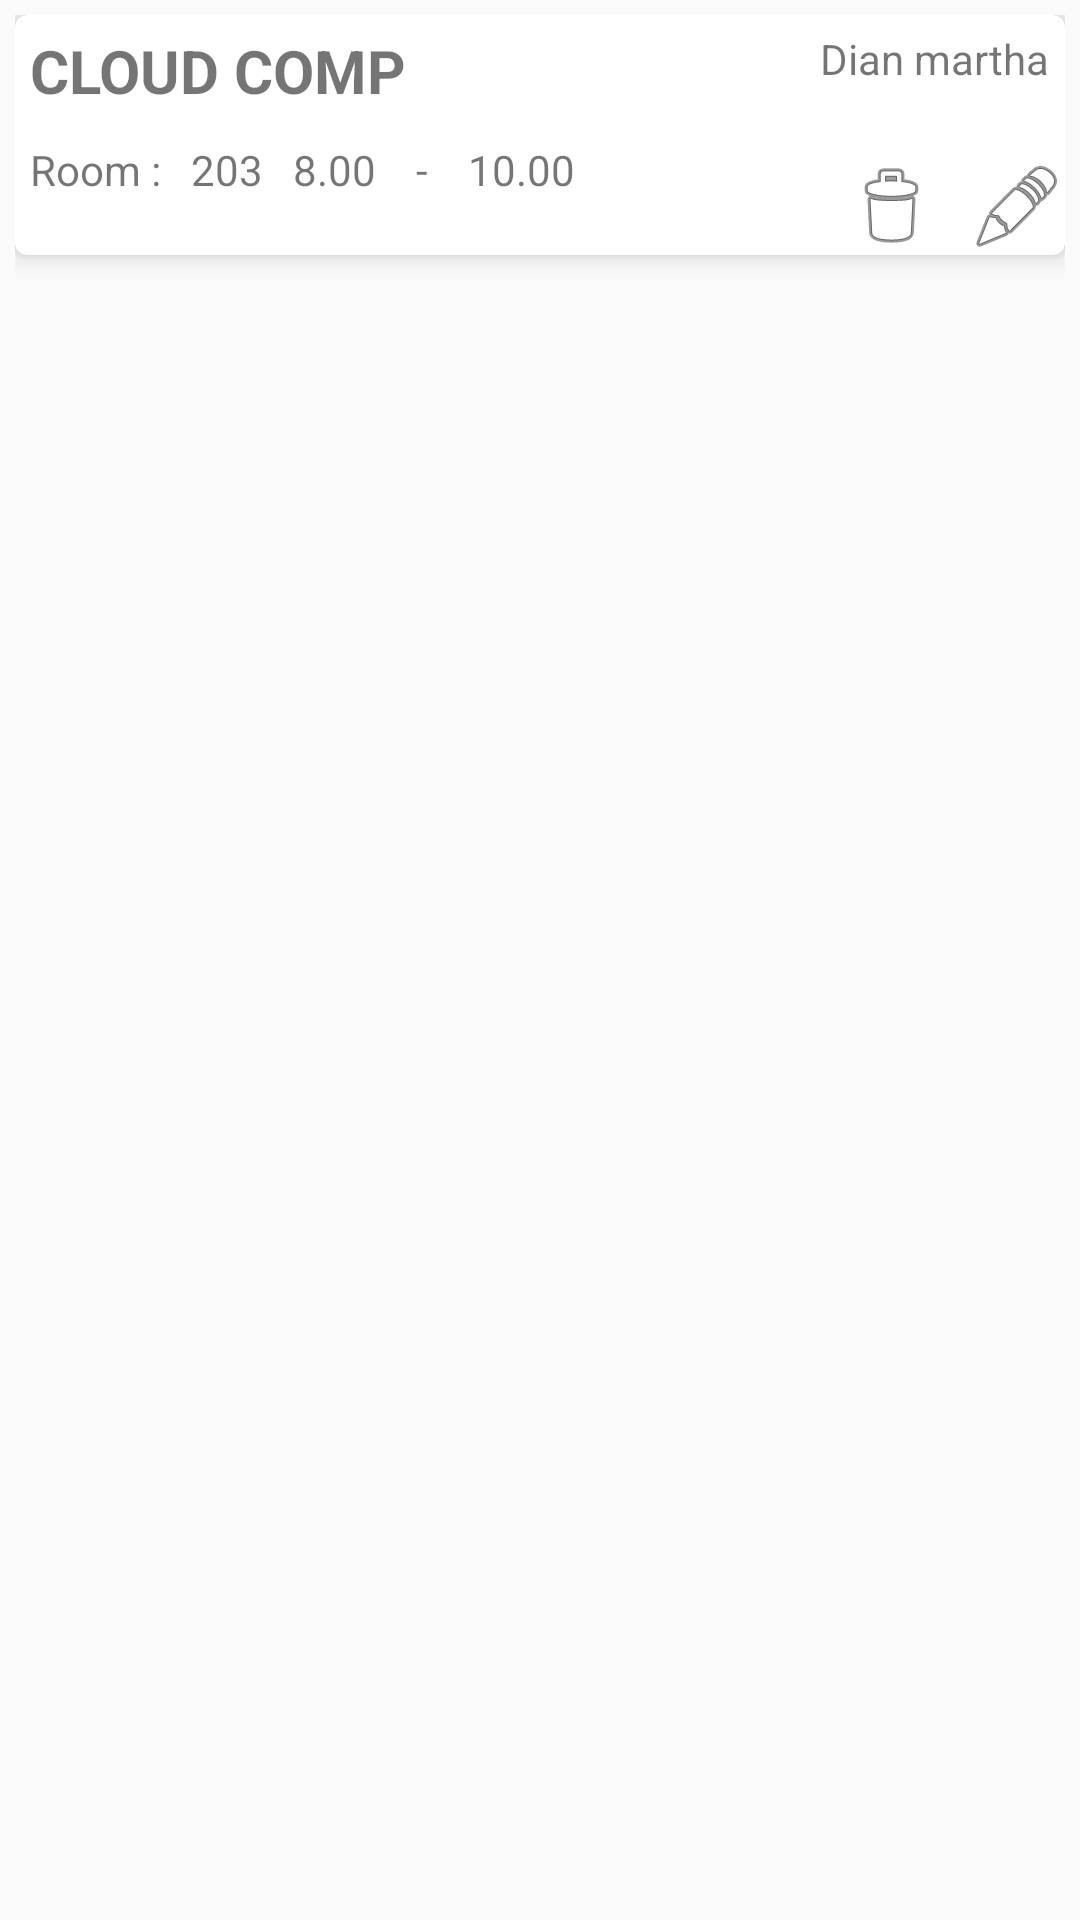

Icons on this 1080 x 1920 Android screen, each with the point to tap as [x,y]:
delete: [891,205]
edit: [1016,206]
